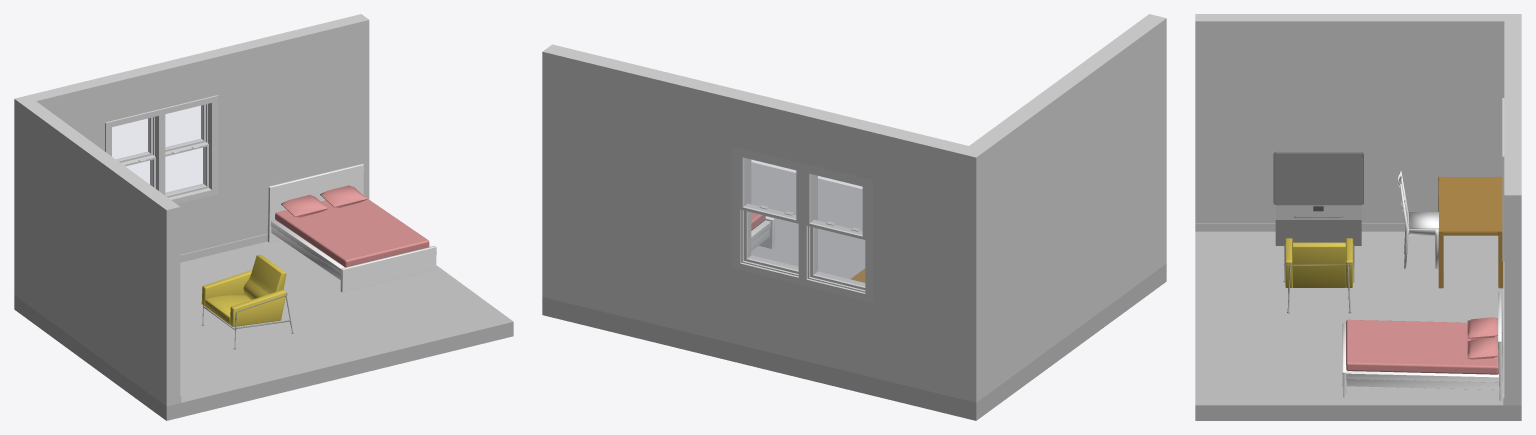
File: L12_W16_furniture3_circulation3.glb
3 views of the same model, side by side, from view 1: azimuth 30°, elevation 25°; view 2: azimuth 150°, elevation 25°; view 3: azimuth 270°, elevation 25° (orthographic). The views are drawn at different scales.
Size of the model in its own units: 200 by 116 by 152.
